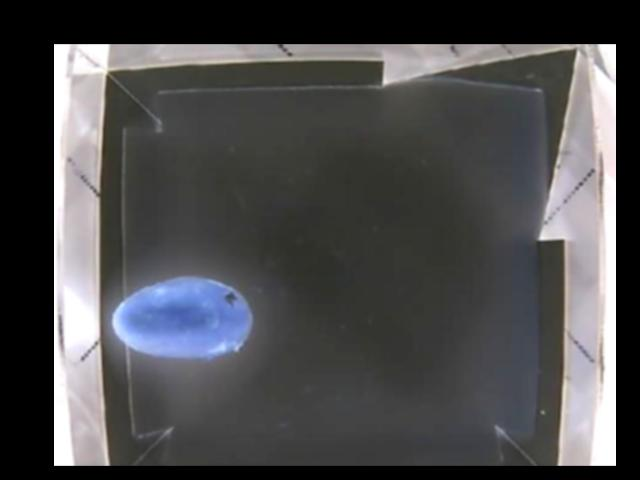Potato: (112, 278, 253, 355)
